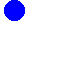circle: (4, 0, 24, 20)
